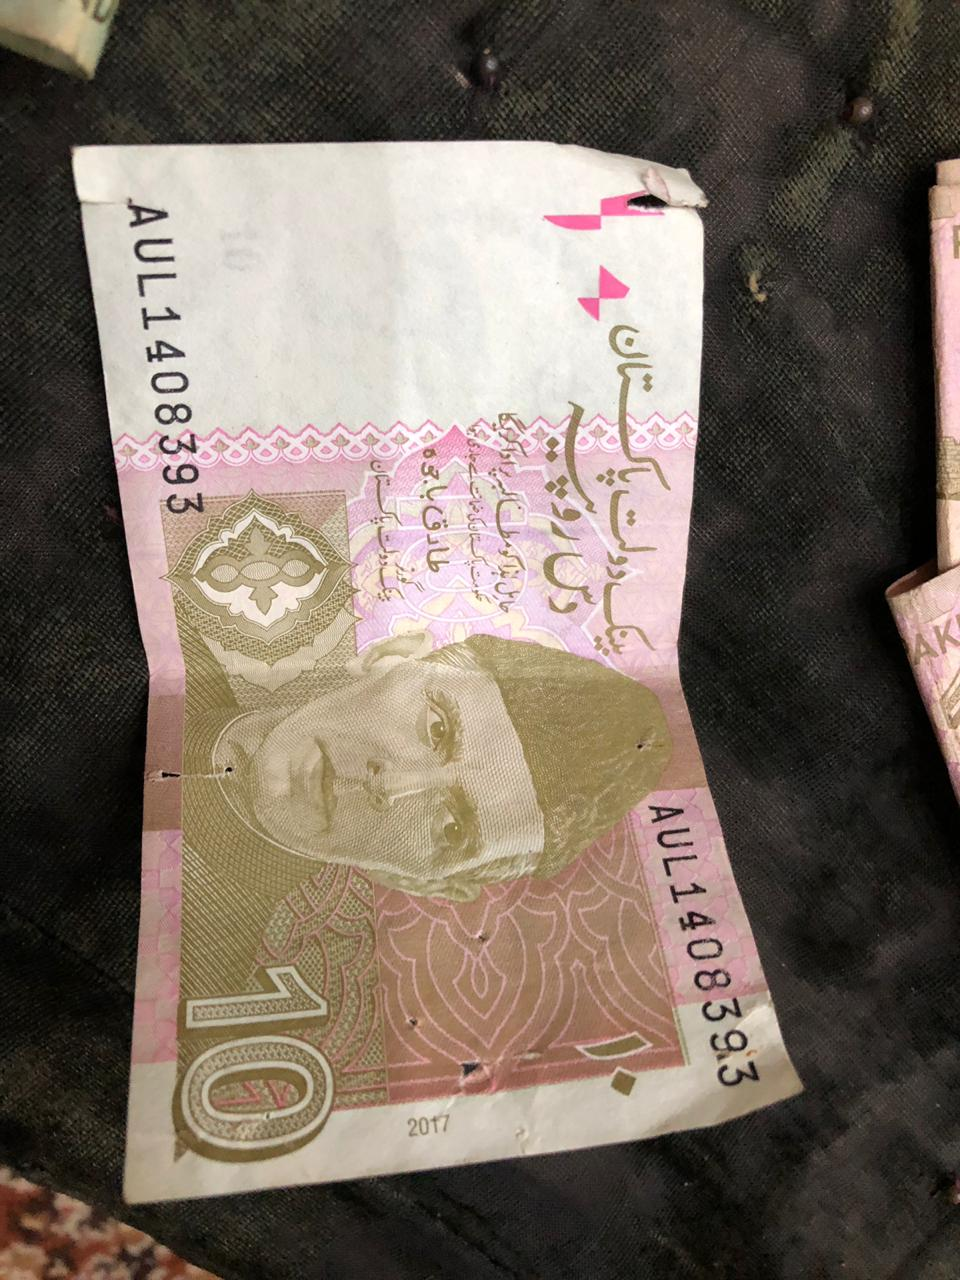10 rupee: (71, 109, 801, 1206)
